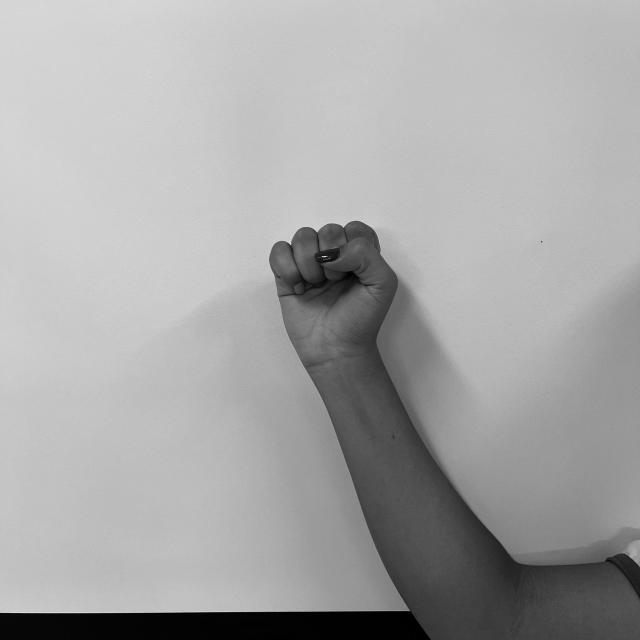Letra S: (262, 215, 405, 362)
